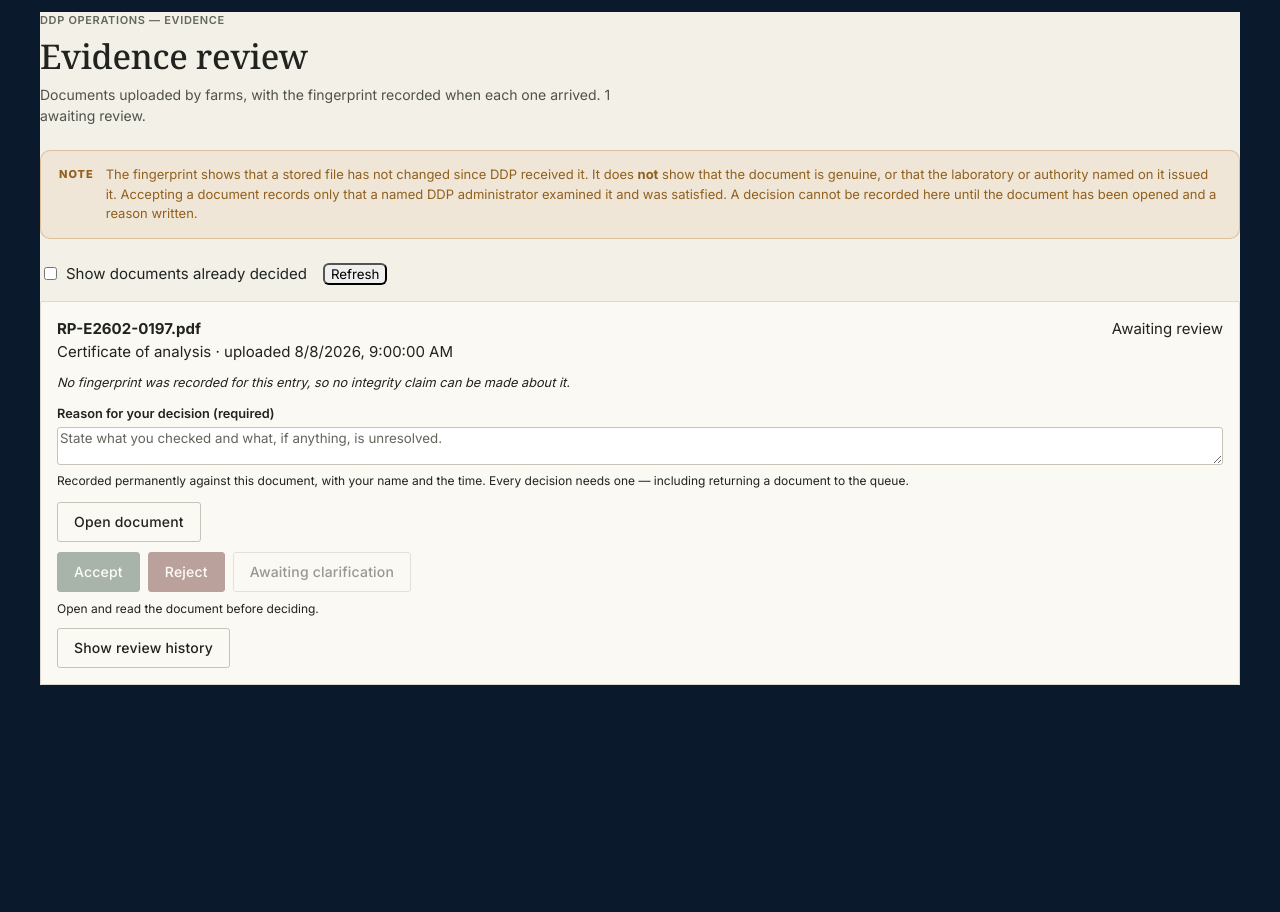
Scenario: a decision cannot be recorded from a standing start › keeps them disabled when the document is opened but no reason is written
Expected: the button "Accept" is shown, [57, 552, 140, 592]
Click the button "Open document" at (129, 522), box [57, 502, 201, 542]
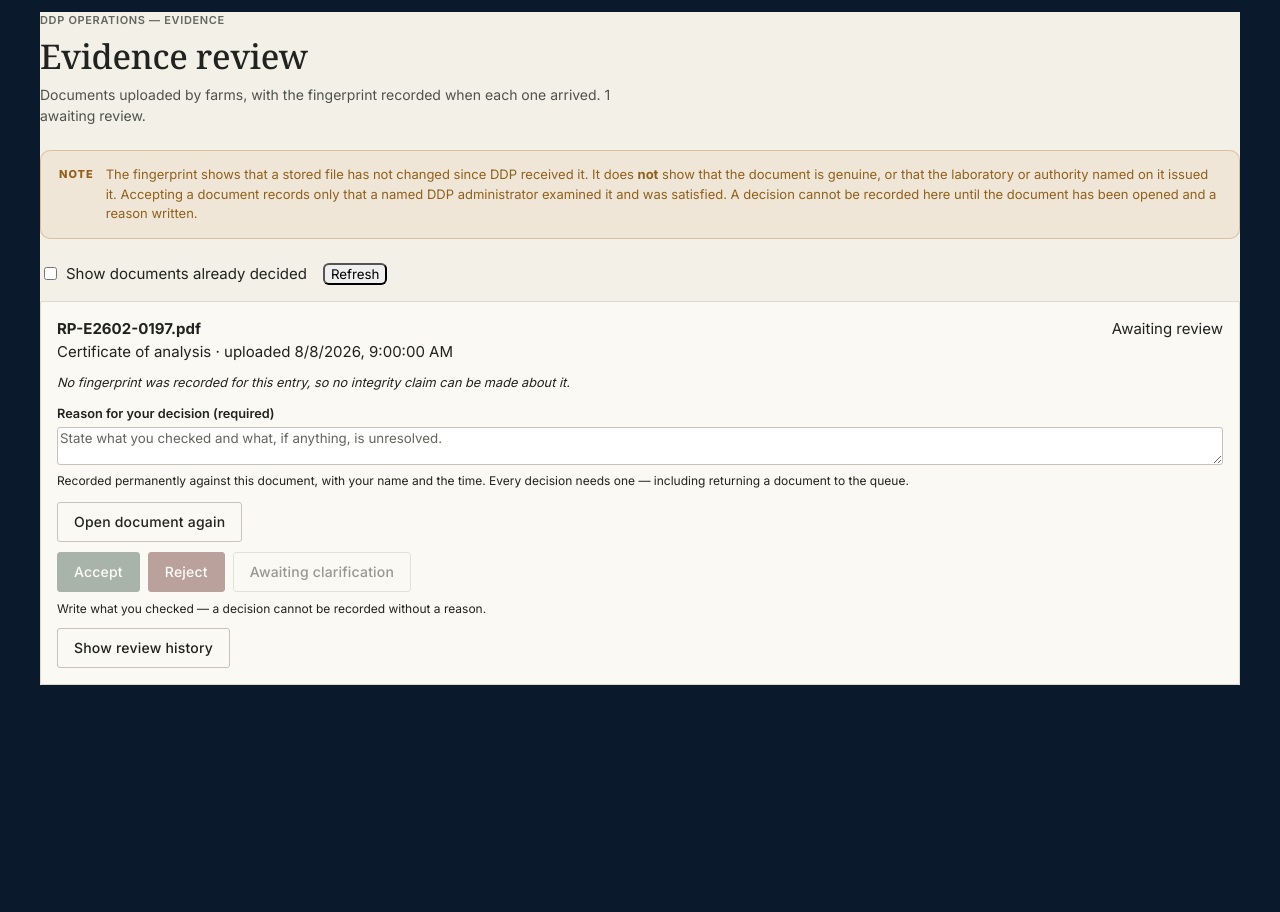
Expected: the button "Accept" is disabled, [57, 552, 140, 592]
Result: the text "cannot be recorded without a reason" is shown at [57, 601, 486, 616]
